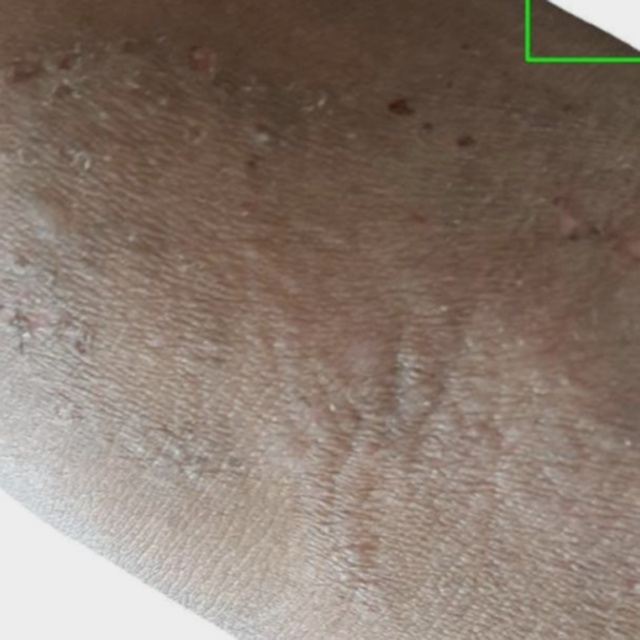Tinea Corporis: (527, 0, 639, 59)
